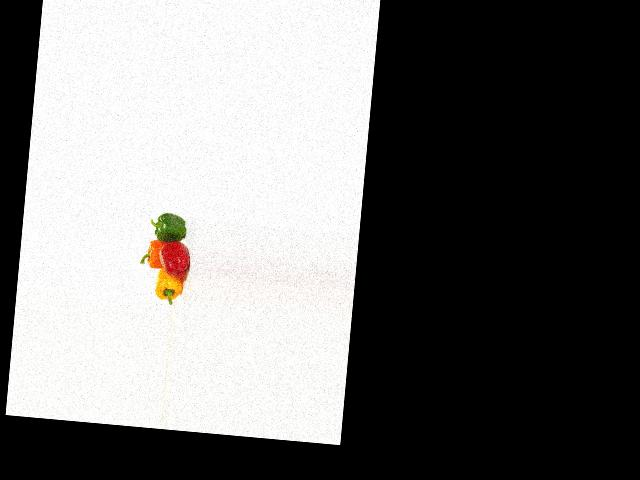bell_pepper: (151, 211, 192, 246)
